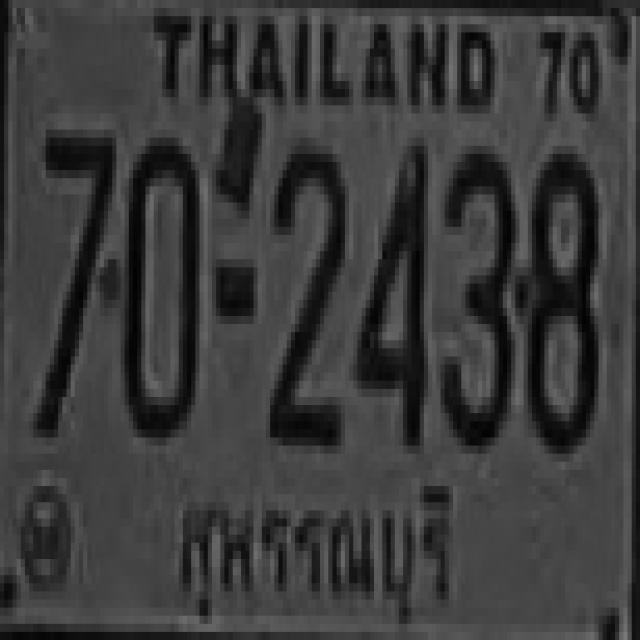0: (120, 130, 196, 429)
2: (268, 138, 343, 437)
3: (438, 142, 514, 441)
4: (353, 134, 424, 442)
7: (33, 122, 112, 430)
8: (524, 146, 594, 445)
SingBuri: (172, 463, 468, 640)
